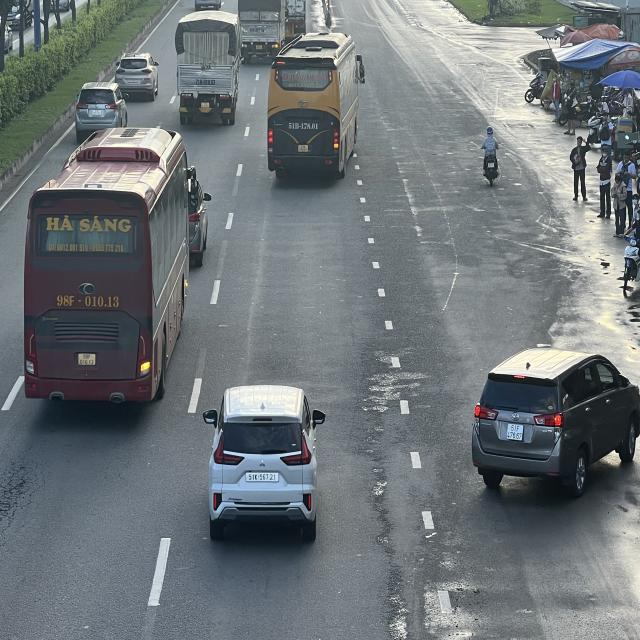car: (471, 352, 639, 506), (206, 387, 325, 541), (77, 80, 131, 133), (114, 51, 160, 99)
coach: (23, 128, 199, 408), (268, 36, 366, 182)
truck: (176, 13, 240, 122), (237, 0, 286, 56)
